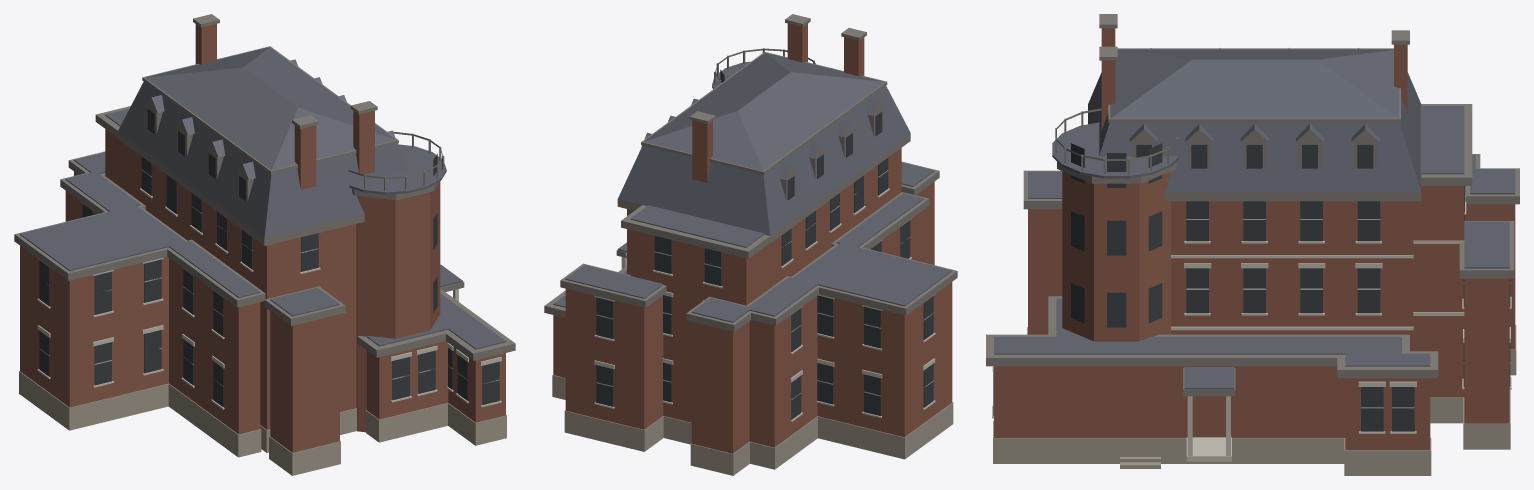
File: tucker_smith_house_2140_prairie__draft_1904.glb
The picture shows the model from 3 angles, left to right: view 1: azimuth 30°, elevation 25°; view 2: azimuth 150°, elevation 25°; view 3: azimuth 270°, elevation 25°; orthographic projection. The views are drawn at different scales.
Visible parts, largest first — view 1: tucker_smith_house_2140_prairie__draft_1904; view 2: tucker_smith_house_2140_prairie__draft_1904; view 3: tucker_smith_house_2140_prairie__draft_1904.
Boxes of the visible parts, x1,y1,x2,y2 form: tucker_smith_house_2140_prairie__draft_1904: (14,14,515,475); tucker_smith_house_2140_prairie__draft_1904: (544,14,957,475); tucker_smith_house_2140_prairie__draft_1904: (986,14,1519,475).
Size of the model in its own units: 21.1 by 17.58 by 23.55.
